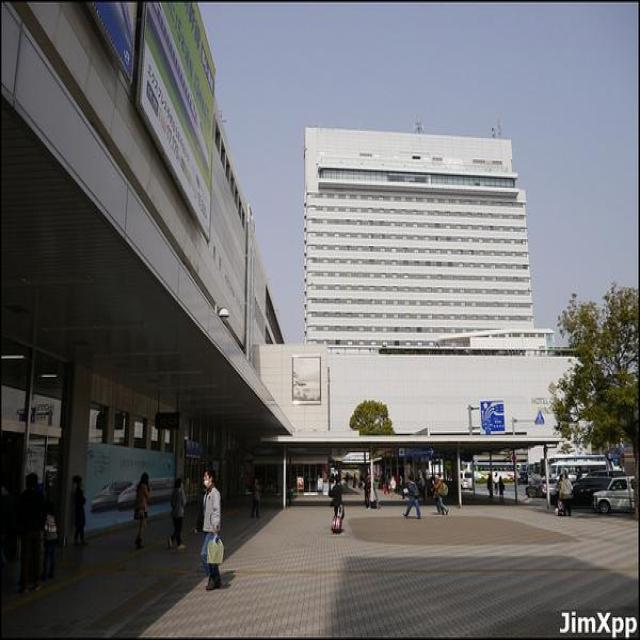non-fight: (15, 473, 45, 595), (197, 469, 224, 592), (130, 472, 153, 549), (40, 500, 59, 583), (0, 480, 17, 562), (168, 475, 186, 550), (72, 476, 88, 546), (402, 476, 422, 518), (331, 479, 345, 531), (559, 474, 573, 517), (434, 474, 448, 514), (250, 476, 261, 518), (550, 473, 561, 514), (44, 472, 55, 504), (364, 474, 372, 510), (372, 479, 379, 509), (428, 474, 436, 500), (487, 476, 493, 499), (498, 476, 504, 499), (390, 475, 396, 496), (493, 472, 499, 492), (382, 478, 389, 494), (330, 474, 336, 492), (343, 472, 350, 487), (359, 474, 365, 490), (335, 472, 341, 488), (387, 475, 392, 493), (352, 474, 357, 488), (398, 474, 402, 490)
